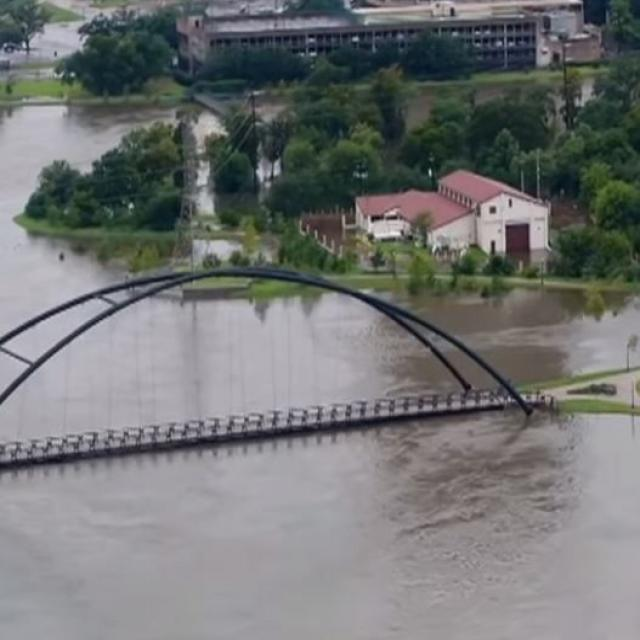flood: (0, 408, 640, 640), (0, 276, 461, 440), (0, 105, 168, 339), (370, 286, 640, 381), (0, 298, 113, 396), (194, 110, 226, 148)
house: (186, 14, 534, 59), (423, 167, 562, 269)
